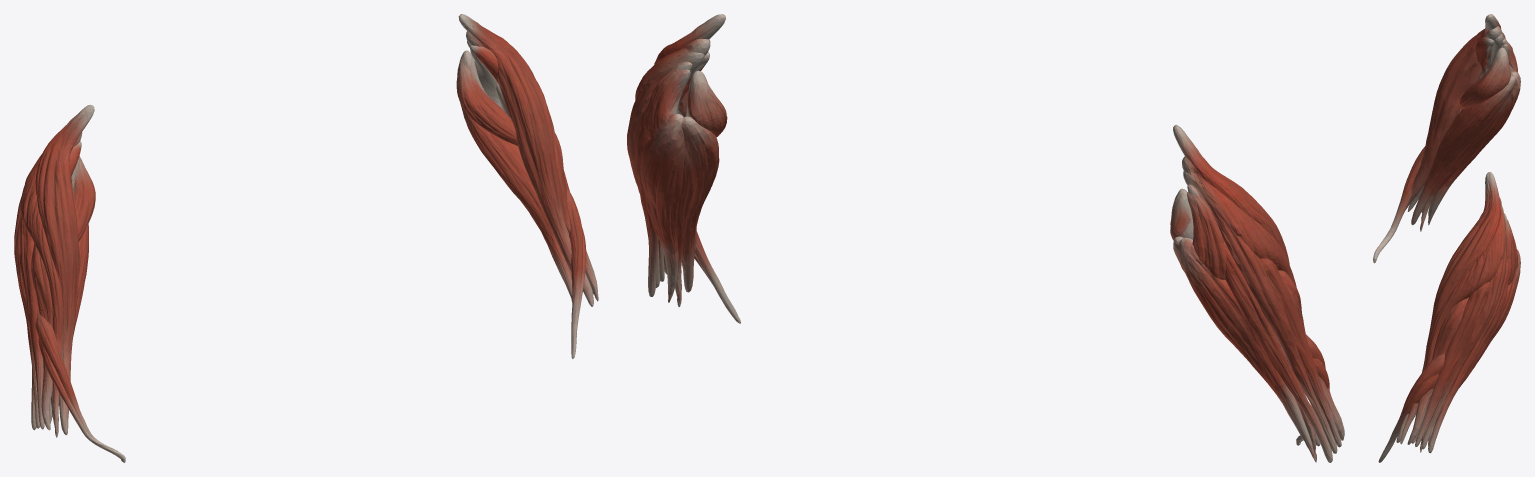
Rendered from SubTool-7-7659566.OBJ.
3 views of the same model, side by side, from view 1: azimuth 30°, elevation 25°; view 2: azimuth 150°, elevation 25°; view 3: azimuth 270°, elevation 25° (orthographic). The views are drawn at different scales.
Parts seen in each view (by area): view 1: Group16572; view 2: Group16572; view 3: Group16572.
Part boxes in pixels (bbox=[...]): Group16572: bbox=[14, 14, 598, 462]; Group16572: bbox=[627, 14, 1344, 462]; Group16572: bbox=[1373, 14, 1520, 462].
Size of the model in its own units: 29.26 by 15.57 by 7.72.
